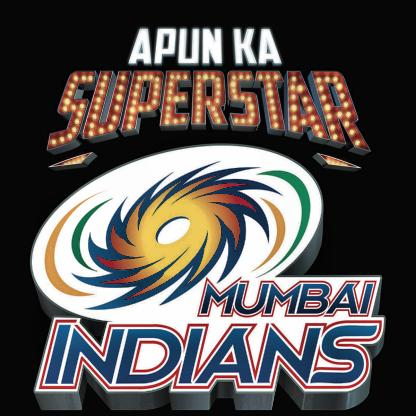Mumbai Indians: (27, 147, 388, 407)
